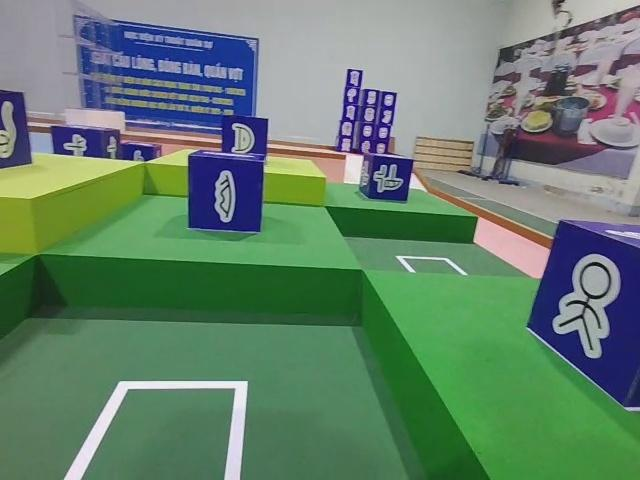R2 Real Blue: (521, 215, 640, 412), (187, 149, 266, 234), (357, 153, 412, 203), (50, 126, 120, 163), (0, 89, 29, 176), (219, 116, 267, 166)
